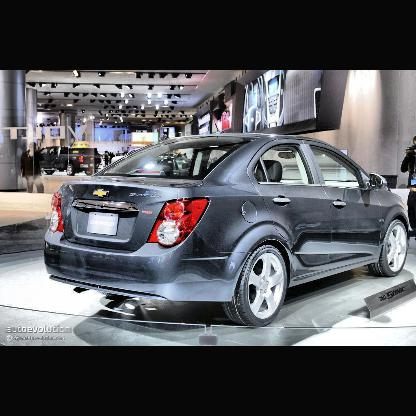Chevrolet Sonic Sedan 2012: (44, 131, 412, 327)
